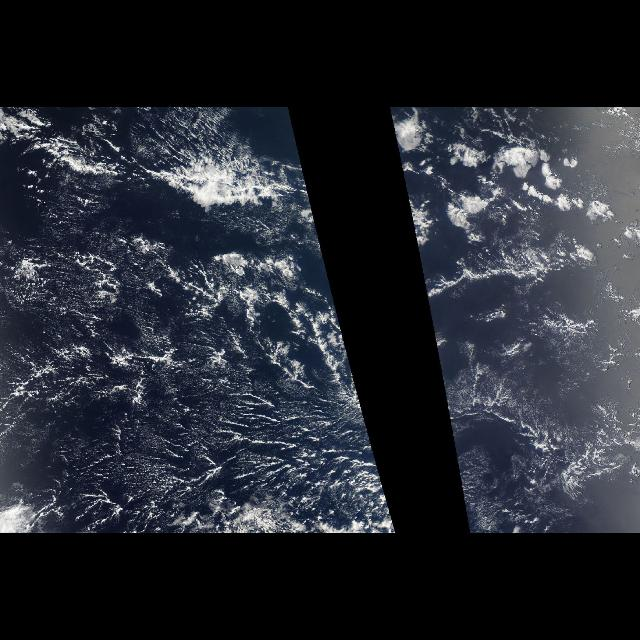Fish: (1, 108, 366, 432)
Flower: (396, 122, 584, 255)
Sugar: (46, 388, 330, 498)
